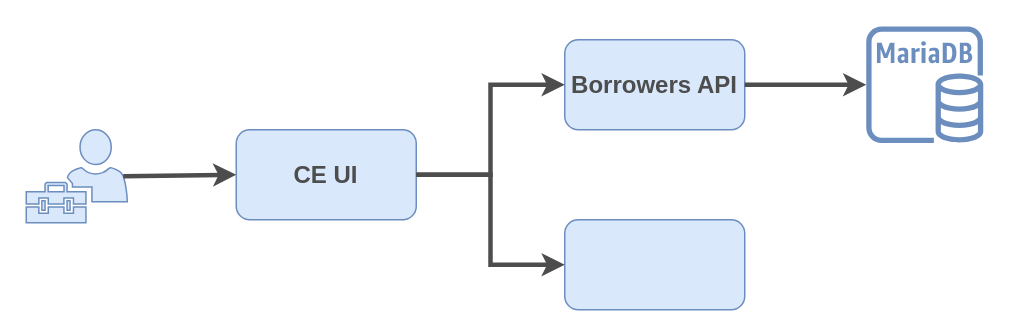
The diagram is 1010 pixels wide and 336 high, and some of its shapes have lost their labels. The shapes that lost their labels are listed below. From the top down, each one's box as (x1, y1, x2, y2) in pixels, then its label:
(25, 128, 127, 223): Agent
(563, 218, 745, 310): CE API
